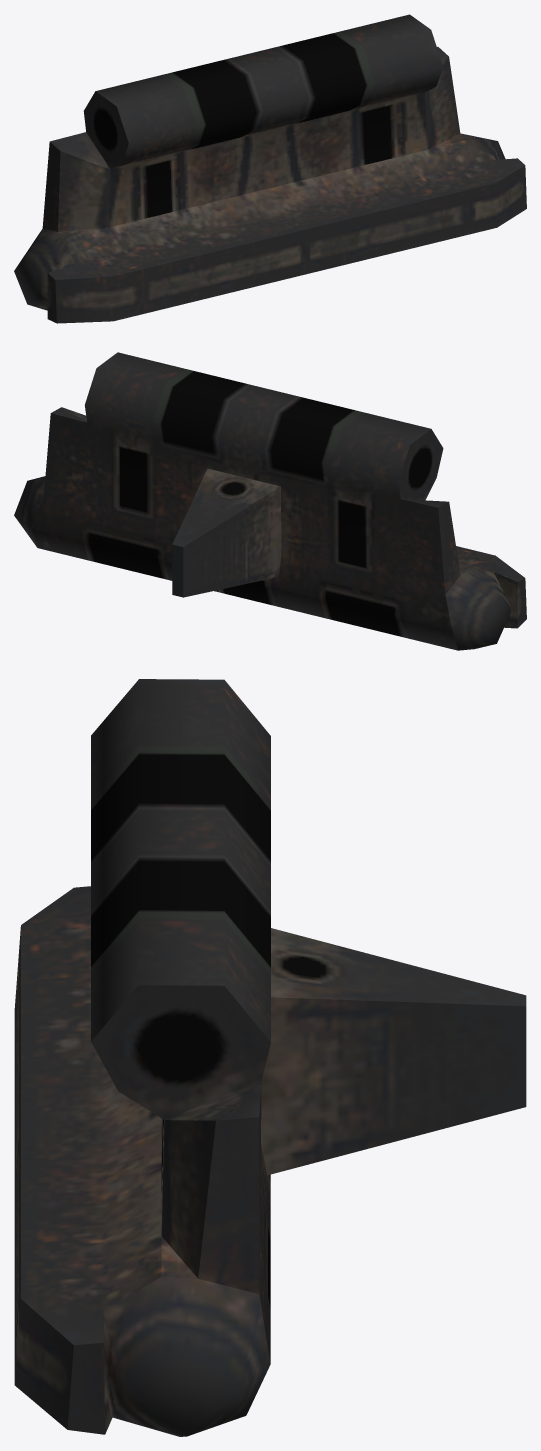
3 views of the same model, one above another, from view 1: azimuth 30°, elevation 25°; view 2: azimuth 150°, elevation 25°; view 3: azimuth 270°, elevation 25° (orthographic). The views are drawn at different scales.
Visible parts, largest first — view 1: set_0_group_0; view 2: set_0_group_0; view 3: set_0_group_0.
Part boxes in pixels (x1=…): set_0_group_0: x1=14, y1=14, x2=526, y2=323; set_0_group_0: x1=14, y1=352, x2=526, y2=650; set_0_group_0: x1=14, y1=679, x2=526, y2=1436.
Bounding box in the file's own units: 0.3972 × 0.1614 × 0.1874.
1 material, 1 textured.
